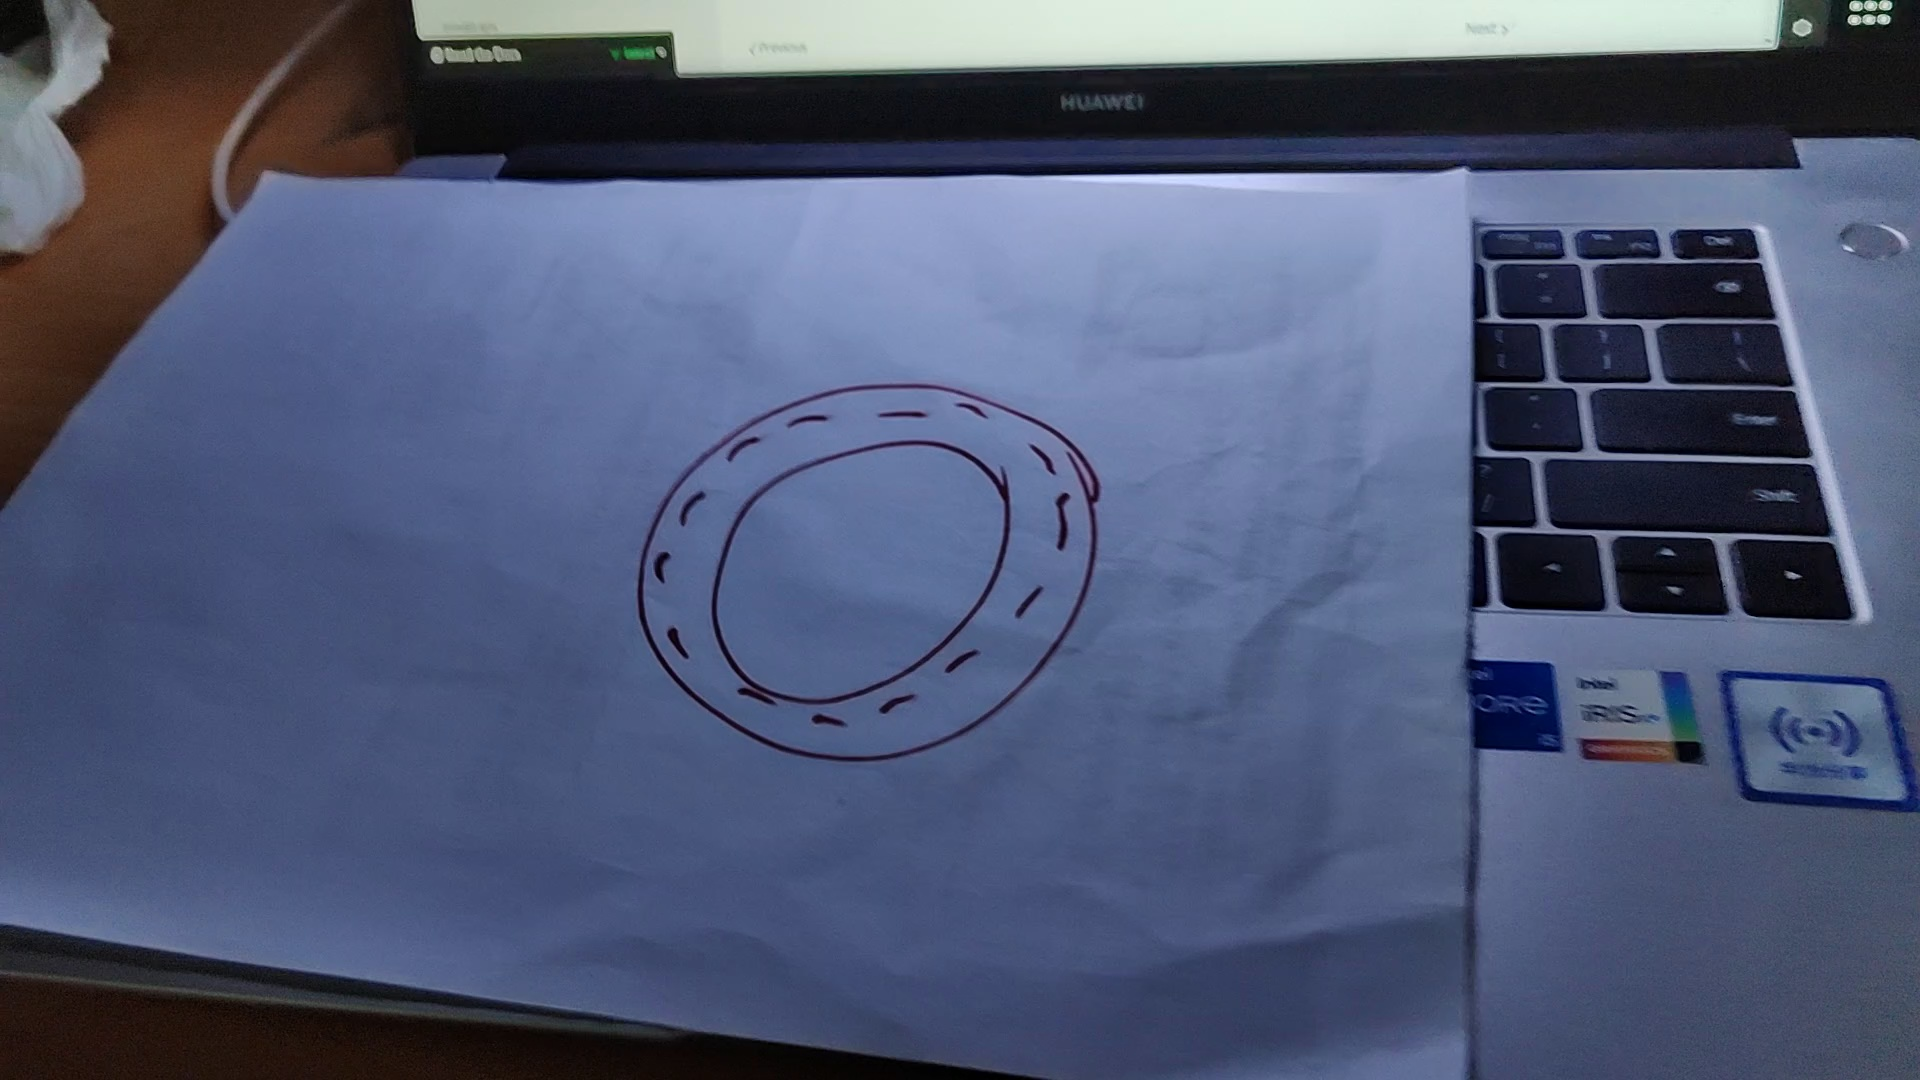circle: (640, 382, 1096, 760)
